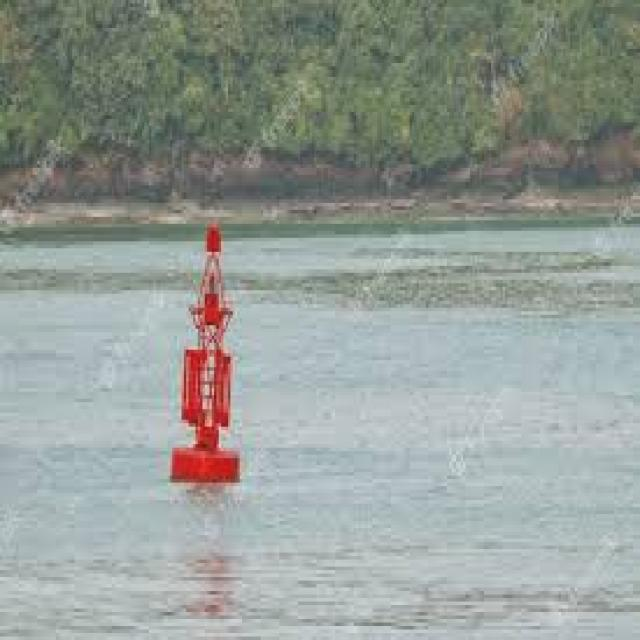buoy: (163, 194, 247, 497)
